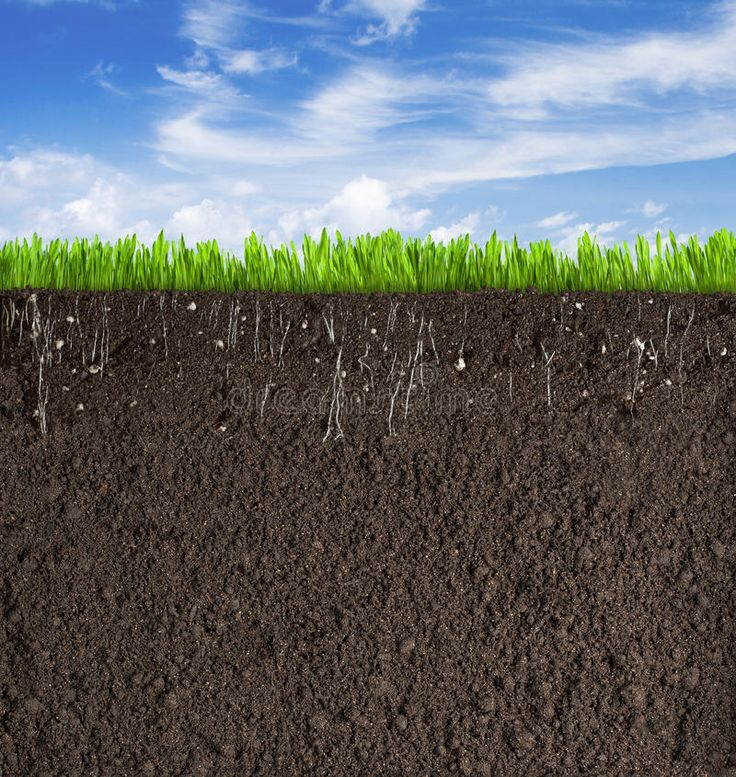dirt: (10, 296, 718, 767)
grass: (0, 236, 734, 293)
